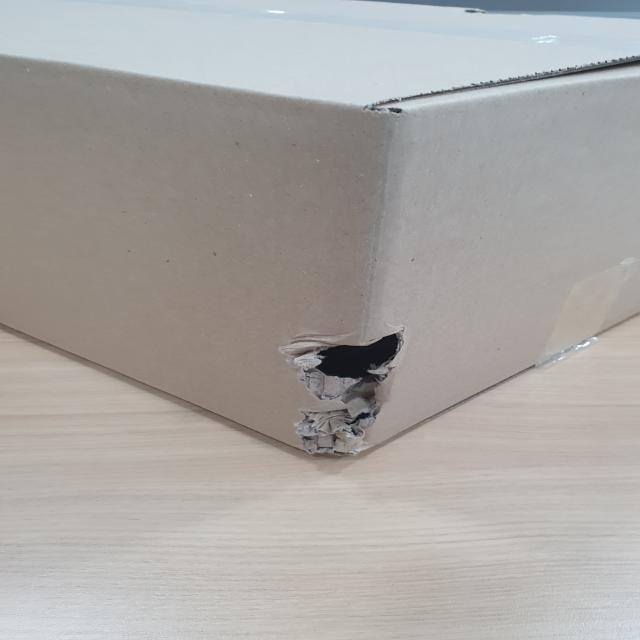hole: (274, 315, 430, 458)
